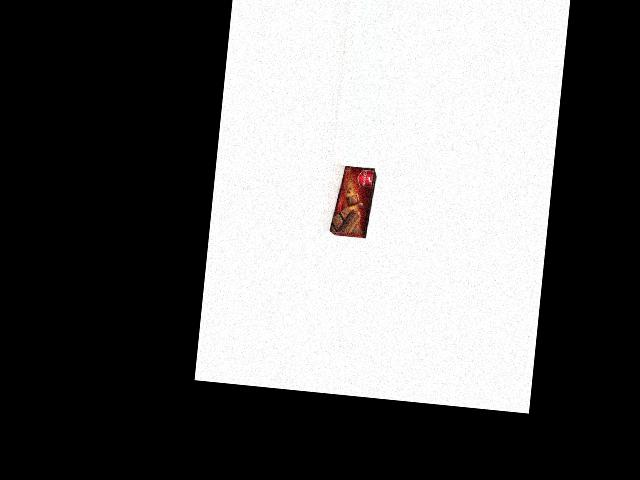chocolate: (328, 164, 377, 238)
